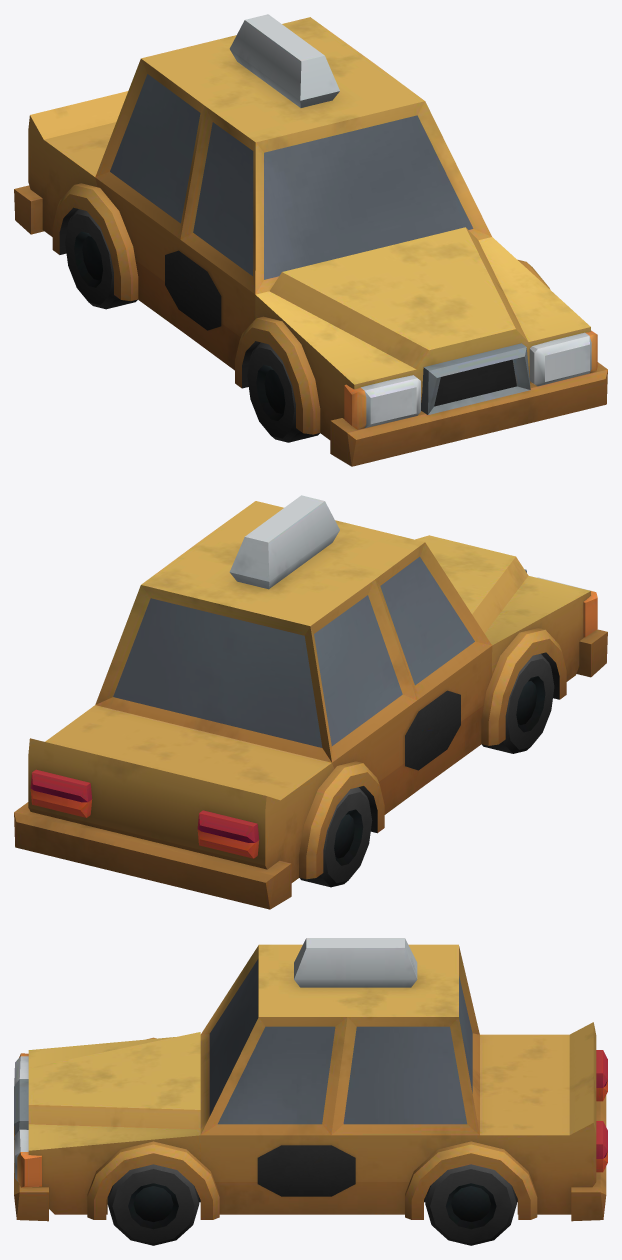
The model's file is car_taxi.glb.
3 views of the same model, one above another, from view 1: azimuth 30°, elevation 25°; view 2: azimuth 150°, elevation 25°; view 3: azimuth 270°, elevation 25° (orthographic). The views are drawn at different scales.
Parts seen in each view (by area): view 1: car_taxi, car_taxi_wheel_rear_right, car_taxi_wheel_front_right; view 2: car_taxi, car_taxi_wheel_front_right, car_taxi_wheel_rear_right; view 3: car_taxi, car_taxi_wheel_front_left, car_taxi_wheel_rear_left.
Boxes of the visible parts, x1,y1,x2,y2 form: car_taxi: (14,14,607,466); car_taxi_wheel_rear_right: (65,209,137,309); car_taxi_wheel_front_right: (247,342,319,442); car_taxi: (14,495,607,909); car_taxi_wheel_front_right: (482,653,554,753); car_taxi_wheel_rear_right: (299,787,372,887); car_taxi: (14,938,607,1221); car_taxi_wheel_front_left: (107,1164,199,1245); car_taxi_wheel_rear_left: (425,1164,516,1245).
Bounding box in the file's own units: 0.419 × 0.4345 × 0.9381.
2 materials, 2 textured.
